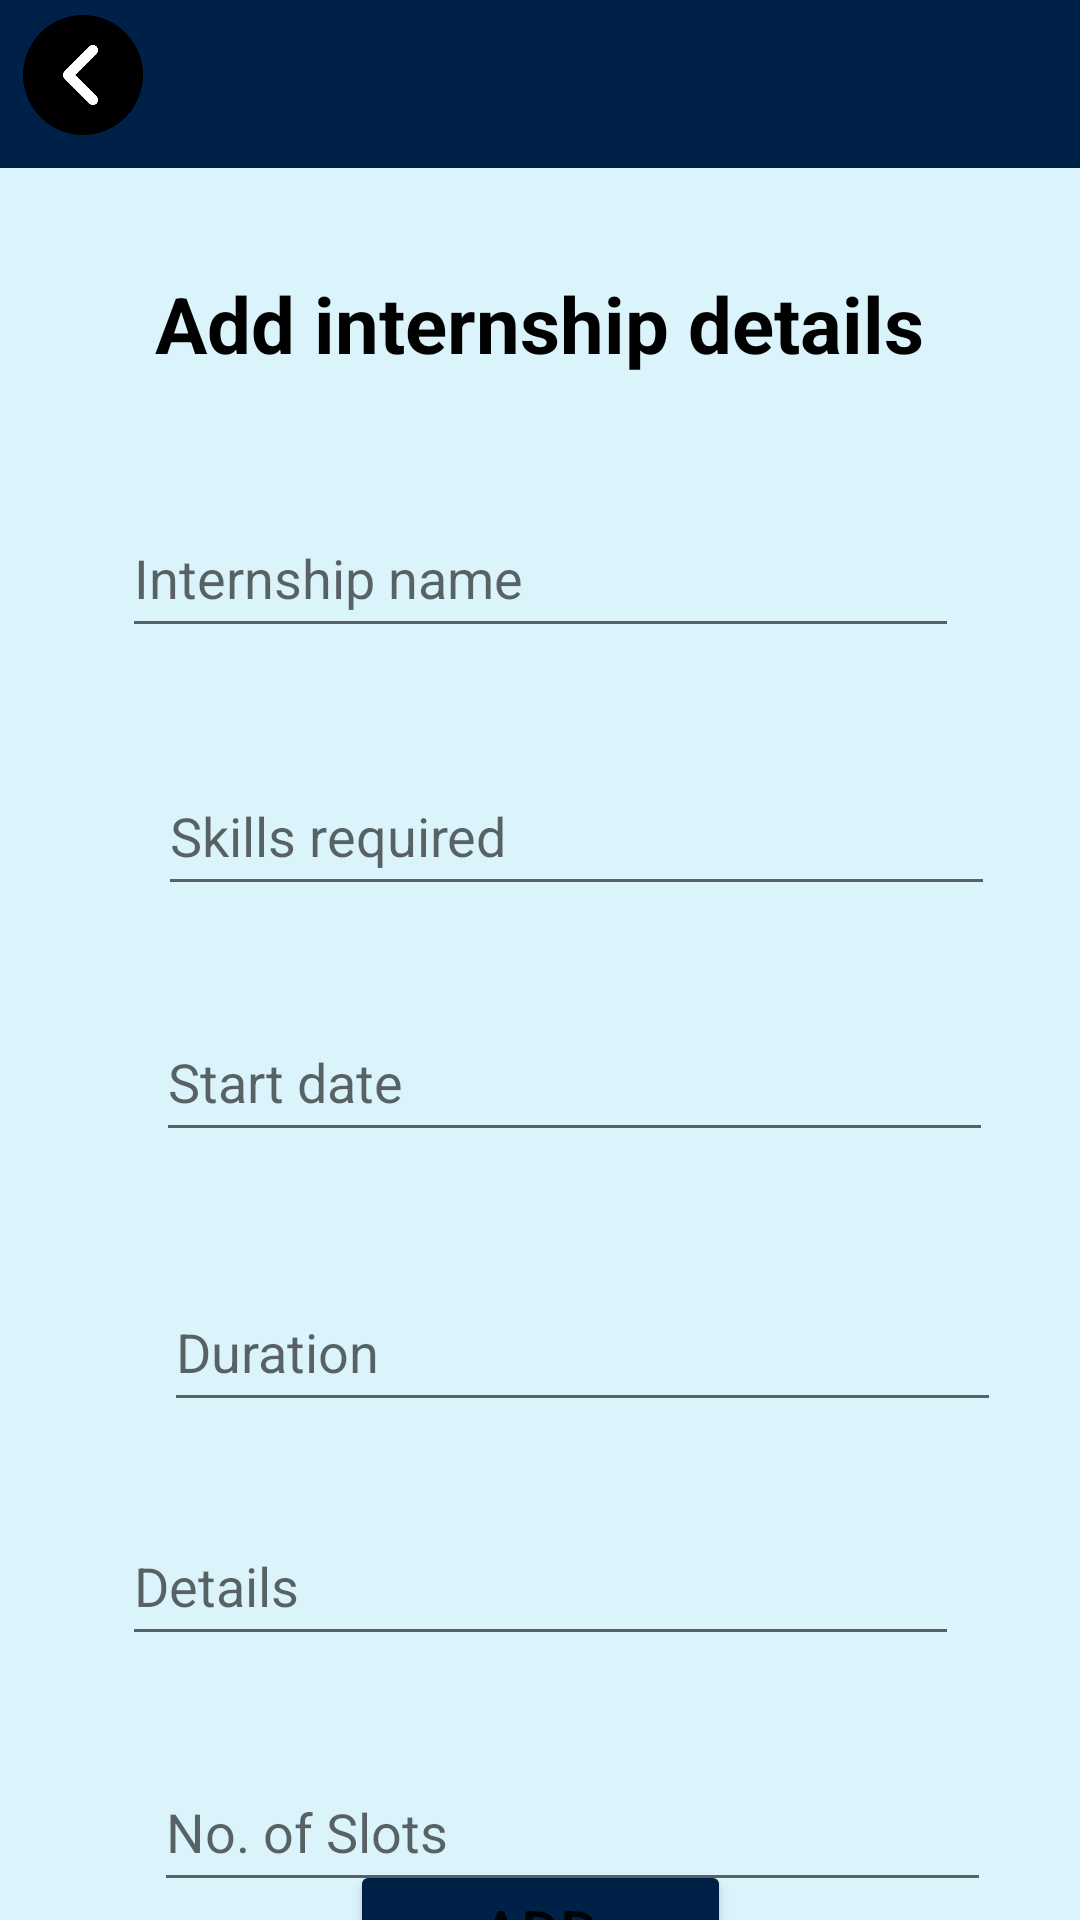

Named icons in this screenshot (1080 × 1920) and their bounding boxes, bbox(x1, y1, x2, y2):
back: bbox(23, 15, 143, 135)
